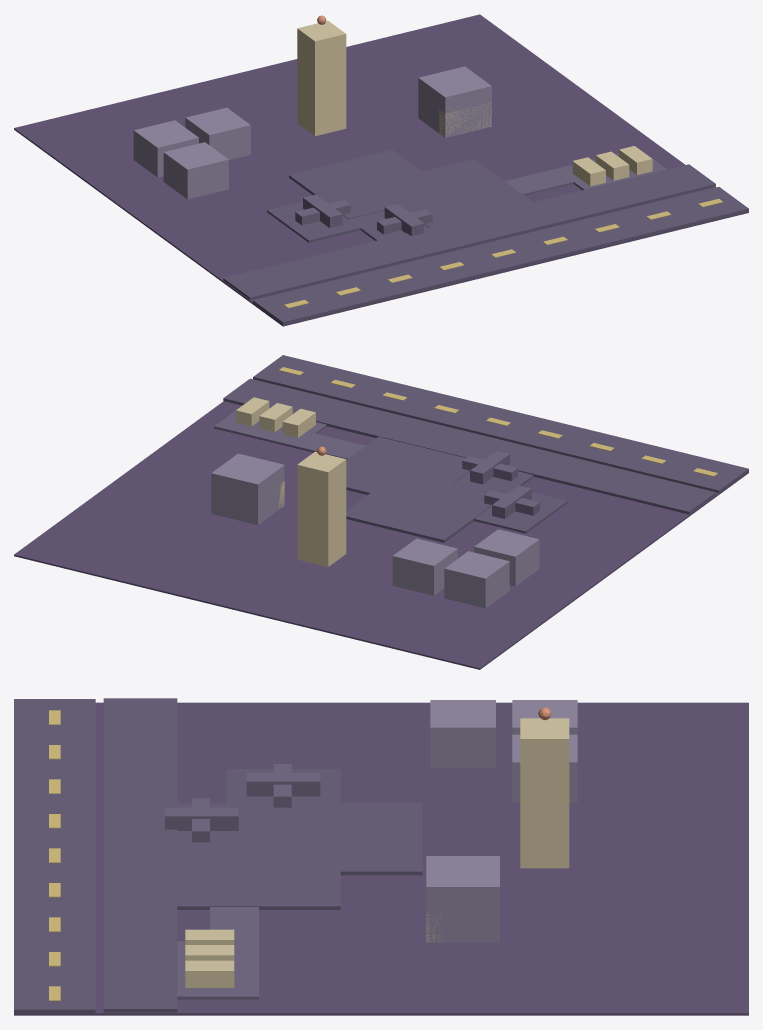
Rendered from stage_12.glb.
The picture shows the model from 3 angles, top to bottom: view 1: azimuth 30°, elevation 25°; view 2: azimuth 150°, elevation 25°; view 3: azimuth 270°, elevation 25°; orthographic projection. The views are drawn at different scales.
Parts seen in each view (by area): view 1: geometry_0; view 2: geometry_0; view 3: geometry_0.
Boxes of the visible parts, x1=… form: geometry_0: x1=14, y1=14, x2=748, y2=326; geometry_0: x1=14, y1=355, x2=748, y2=669; geometry_0: x1=14, y1=698, x2=748, y2=1015.
Size of the model in its own units: 9 by 2.06 by 9.
